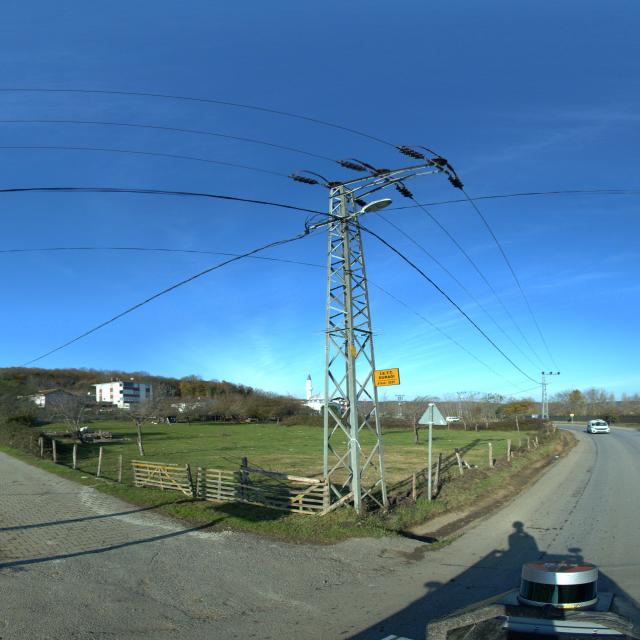Utility Pole Information Plate: (349, 346, 357, 356)
